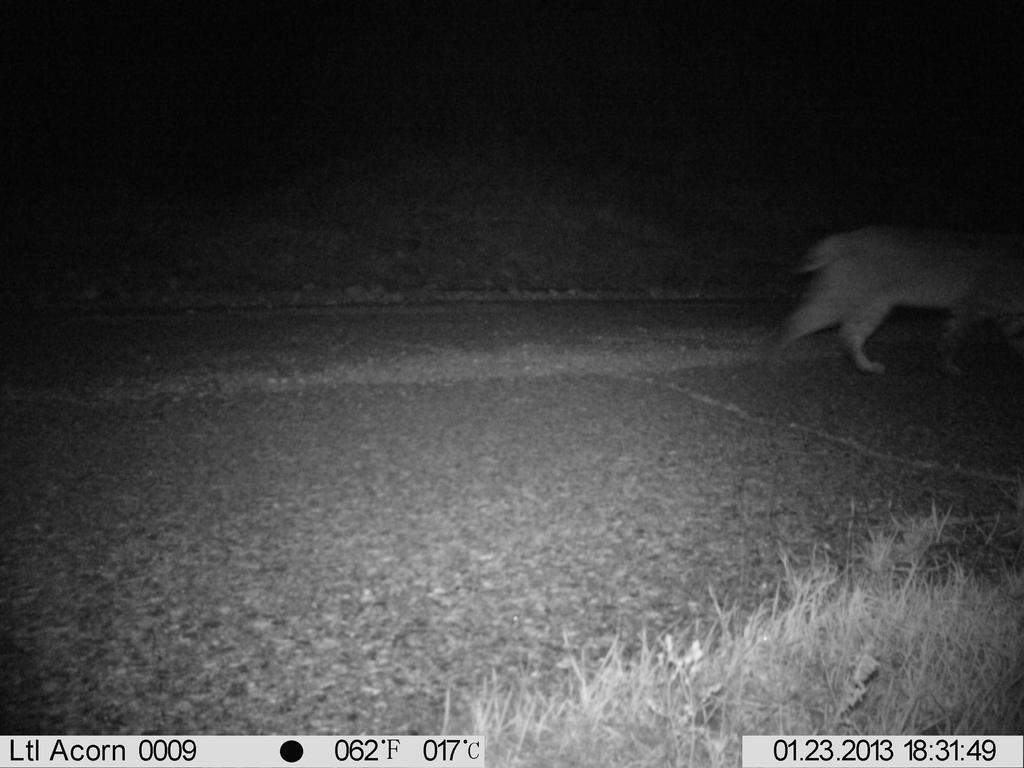bobcat: (759, 217, 1022, 388)
